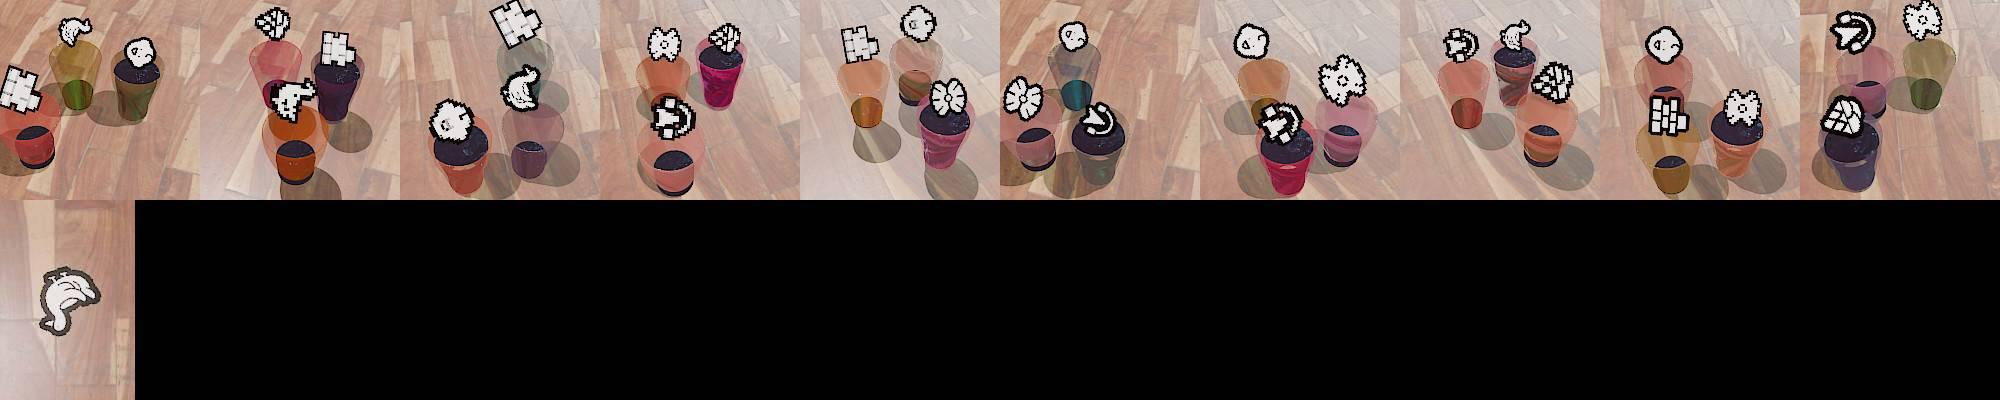icon: (36, 265, 103, 338), (1317, 54, 1369, 109), (489, 0, 542, 50), (267, 76, 317, 122), (650, 92, 697, 140), (429, 97, 477, 144), (1256, 100, 1303, 146), (499, 63, 543, 112), (1828, 11, 1875, 56), (0, 65, 43, 114), (1002, 75, 1045, 120), (1529, 60, 1574, 103), (1822, 93, 1866, 135), (1648, 92, 1690, 136), (1901, 1, 1943, 42), (1721, 88, 1762, 129), (928, 77, 967, 119), (1645, 24, 1683, 65), (841, 24, 880, 63), (899, 4, 937, 43), (1233, 22, 1269, 62), (319, 29, 355, 67), (1442, 26, 1480, 62), (254, 6, 291, 42), (647, 25, 682, 63), (1080, 101, 1117, 136), (707, 21, 742, 55), (124, 36, 157, 70), (58, 16, 93, 48), (1498, 20, 1533, 51), (1058, 20, 1088, 52)
